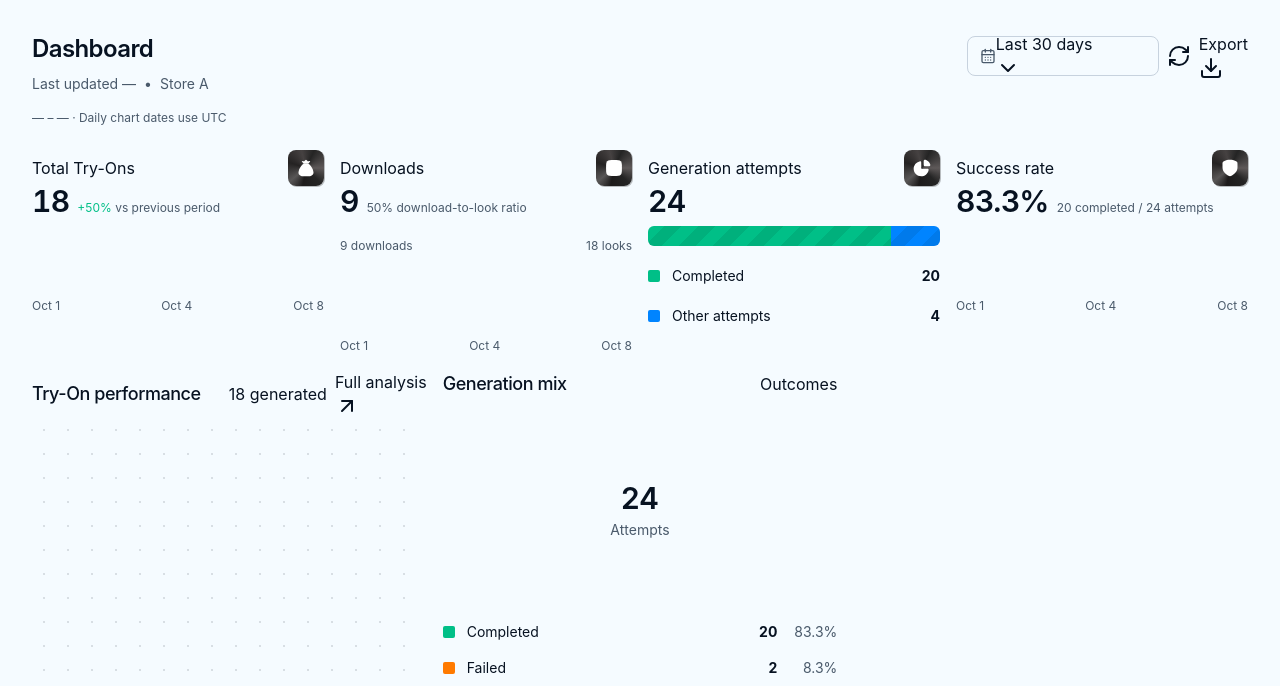
it: Capitalio SelfX dashboard › does not leave old results visible when a refresh fails
Click the button named "Refresh dashboard": (1179, 56) [1167,44,1191,68]
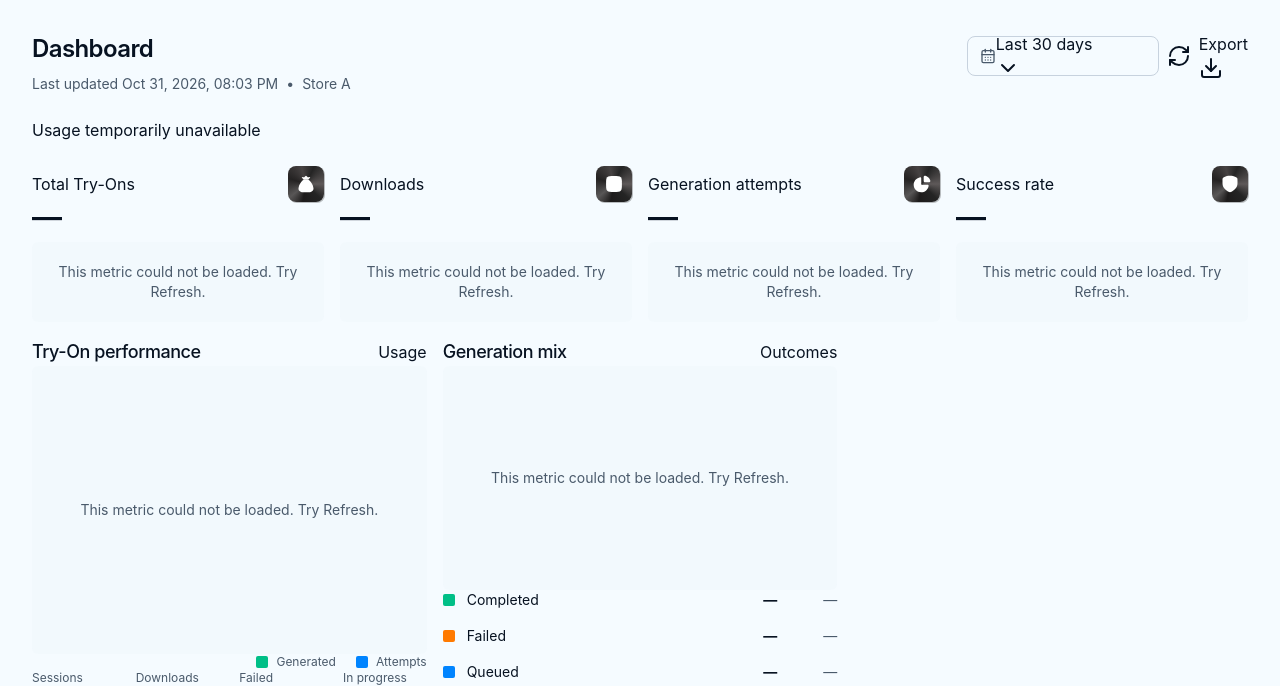
Expected: the button "Export" is disabled, [1199,32,1248,80]
Expected: the message "Usage temporarily unavailable" is shown, [32,120,261,140]
